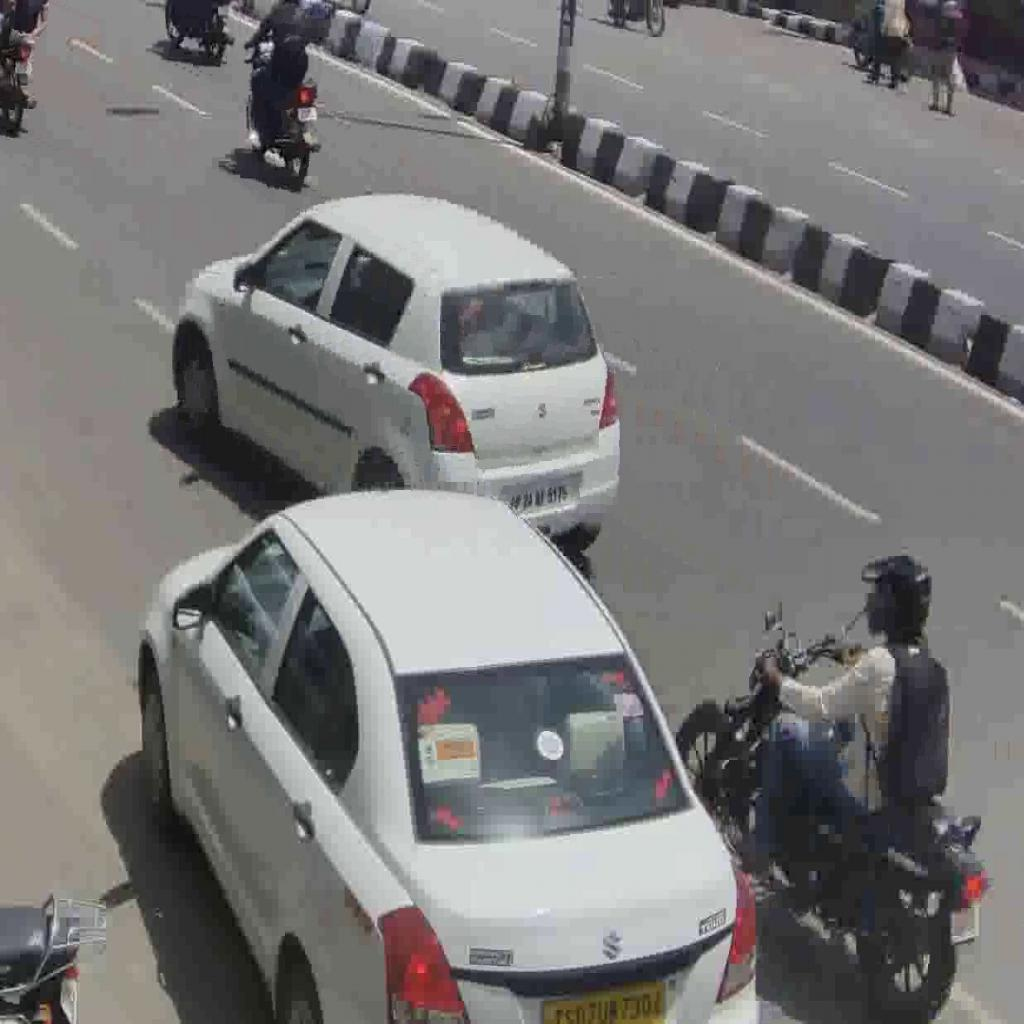helmet: (673, 637, 993, 1024), (243, 31, 326, 188)
